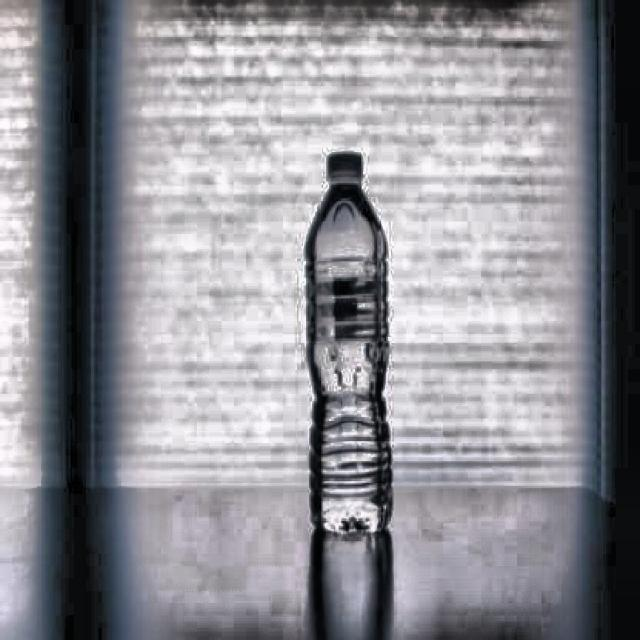Bottles: (276, 144, 418, 545)
